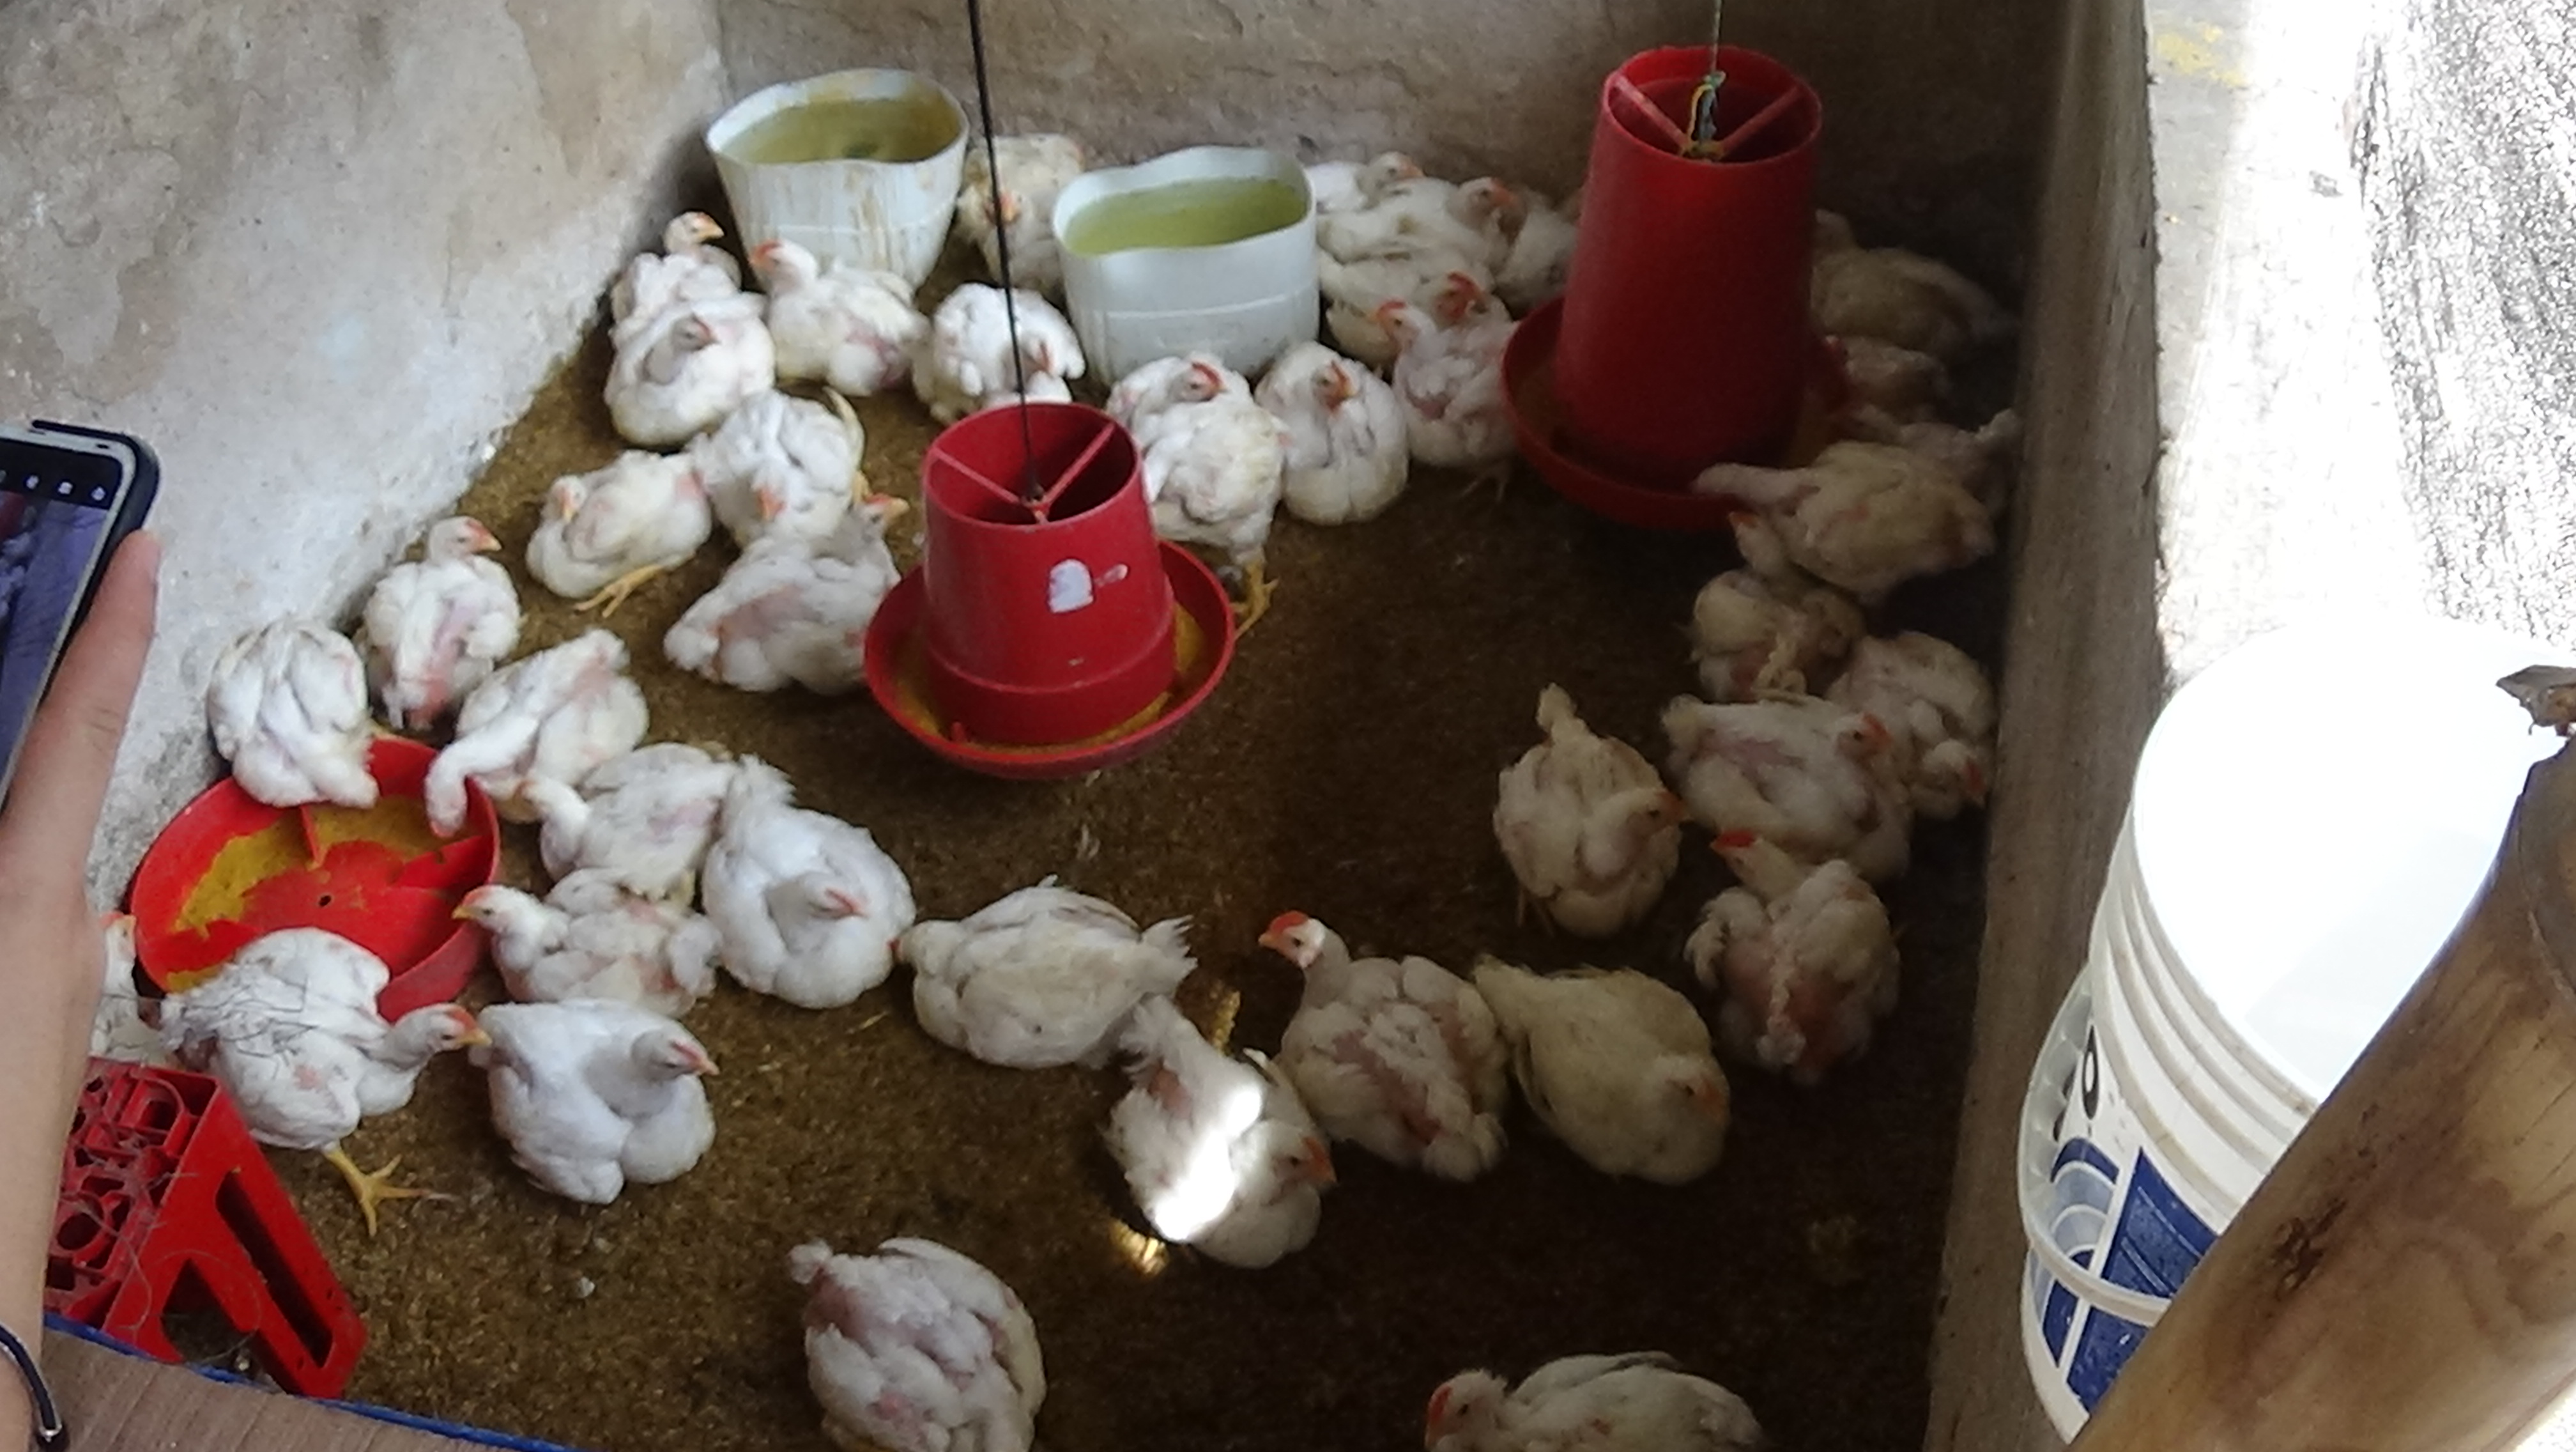Pollos: (159, 935, 487, 1243), (1244, 896, 1507, 1193), (1079, 997, 1343, 1278), (754, 1225, 1067, 1452), (1458, 942, 1739, 1188), (881, 871, 1212, 1075), (1458, 669, 1695, 942), (1677, 823, 1909, 1091), (669, 464, 924, 701), (697, 742, 911, 1018), (471, 993, 729, 1213), (419, 607, 653, 845), (1684, 432, 2001, 593), (1665, 684, 1921, 859), (504, 726, 754, 894), (1118, 411, 1300, 641), (1677, 499, 1872, 708), (368, 501, 541, 735), (1417, 1337, 1762, 1452), (439, 871, 729, 1006), (207, 604, 386, 818), (1808, 191, 2022, 365), (1835, 616, 2006, 829), (736, 221, 927, 411), (1240, 344, 1428, 531), (513, 441, 708, 616), (690, 377, 867, 561), (1376, 301, 1532, 510), (911, 276, 1106, 443), (587, 294, 778, 459), (1316, 243, 1497, 370), (1313, 159, 1536, 262), (943, 131, 1088, 289), (1095, 324, 1274, 446), (593, 191, 748, 328), (1281, 138, 1431, 220)
